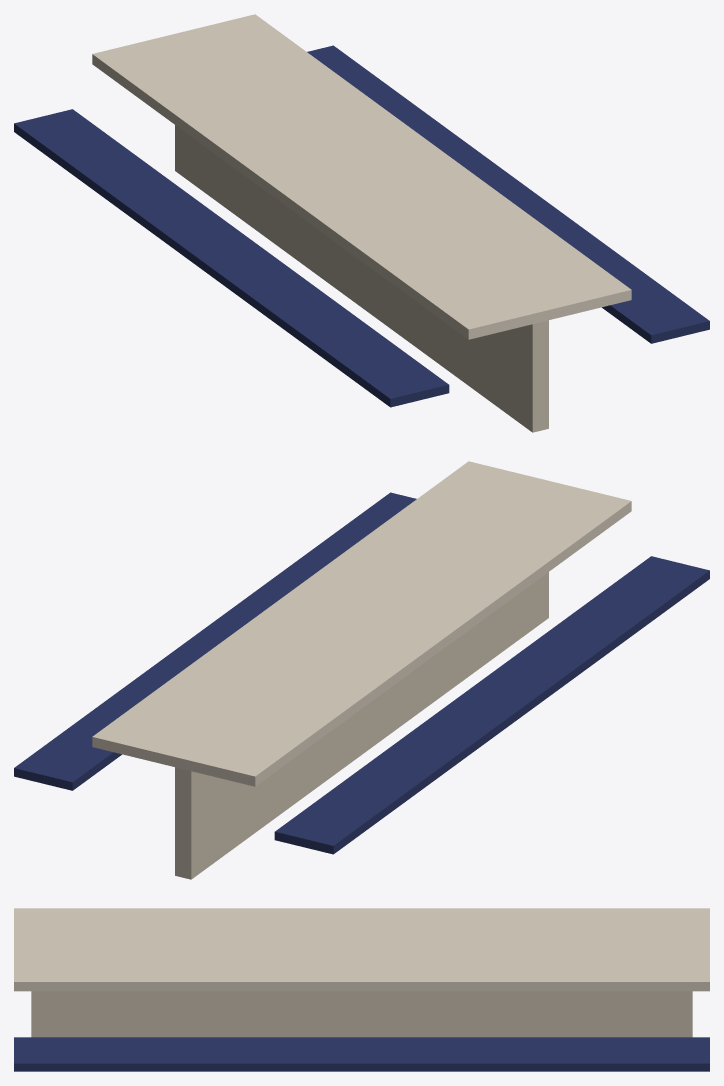
File: cafeteria_table_1.glb
3 views of the same model, one above another, from view 1: azimuth 30°, elevation 25°; view 2: azimuth 150°, elevation 25°; view 3: azimuth 270°, elevation 25° (orthographic). The views are drawn at different scales.
Visible parts, largest first — view 1: Box1, Box3, Box2, Box4; view 2: Box1, Box3, Box2, Box4; view 3: Box1, Box2, Box4.
Part boxes in pixels (x1,y1,x2,y2): Box1: (92, 14, 631, 339); Box3: (14, 109, 449, 407); Box2: (175, 125, 548, 432); Box4: (307, 45, 709, 343); Box1: (92, 461, 631, 786); Box3: (274, 556, 709, 854); Box2: (175, 572, 548, 879); Box4: (14, 492, 416, 790); Box1: (14, 908, 709, 991); Box2: (31, 991, 692, 1037); Box4: (14, 1037, 709, 1071).
Bounding box in the file's own units: 1.96 × 0.75 × 4.
